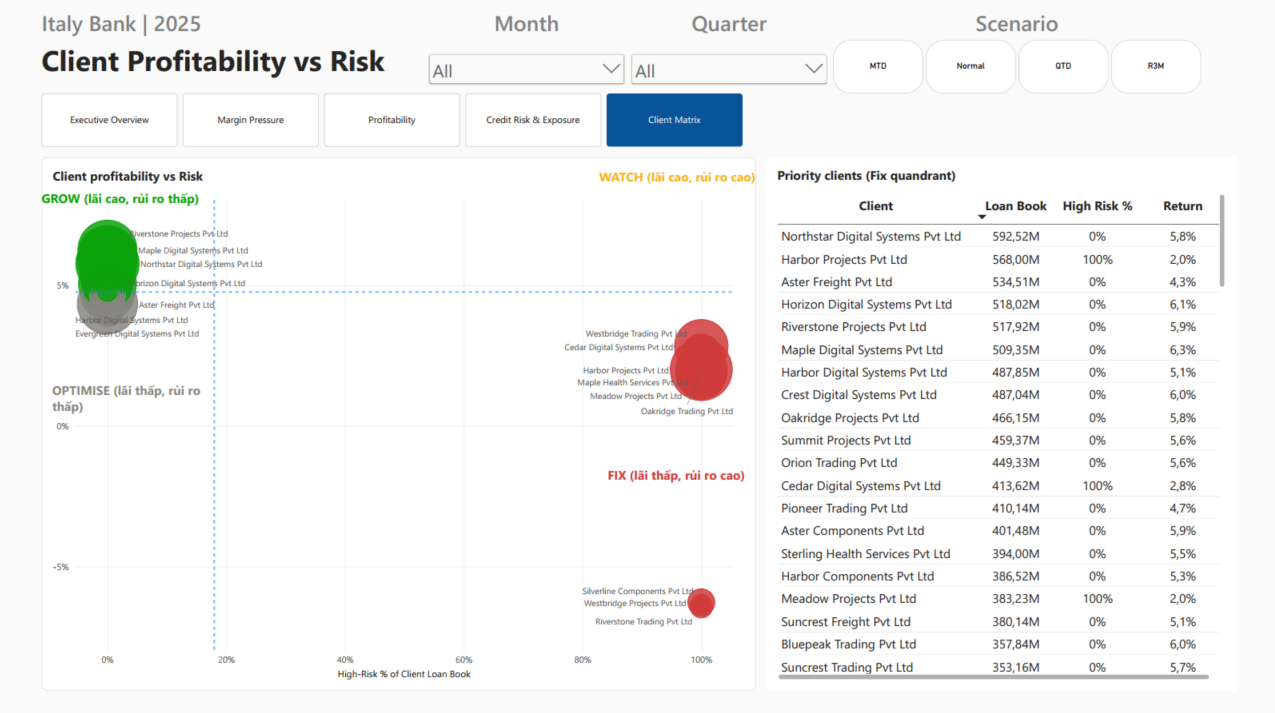

The page's visual inventory and layout, read from the dashboard file:
{"tool":"powerbi","page":{"name":"Client Matrix","canvas":[1920,1080],"ordinal":4},"visuals":[{"type":"textbox","box":[64,16,272,48],"z":0},{"type":"textbox","box":[64,64,528,64],"z":1000},{"type":"advancedSlicerVisual","fields":{"Values":["Calculation group.Time period"]},"box":[1232,64,592,80],"z":2000},{"type":"textbox","box":[1424,16,208,48],"z":3000},{"type":"shape","box":[64,240,1072,800],"z":4000},{"type":"shape","box":[1152,240,704,800],"z":5000},{"type":"slicer","fields":{"Values":["Dim_date.Quarter"]},"box":[944,80,304,64],"z":6000},{"type":"textbox","box":[992,16,208,48],"z":7000},{"type":"tableEx","title":"Priority clients (Fix quandrant)","fields":{"Values":["Dim_Client.ClientName","Measure.Loan Book","Measure.High Risk Exposure %","Measure.Risk-adj Return"]},"box":[1152,240,704,800],"z":8000},{"type":"slicer","fields":{"Values":["Dim_date.Month"]},"box":[640,80,304,64],"z":9000},{"type":"textbox","box":[688,16,208,48],"z":10000},{"type":"scatterChart","title":"Client profitability vs Risk","fields":{"X":["Measure.High Risk Exposure %"],"Size":["Measure.Loan Book"],"Series":["Dim_Client.ClientName"],"Y":["Measure.Y"]},"box":[64,240,1072,800],"z":11000},{"type":"pageNavigator","box":[64,144,1056,80],"z":12000},{"type":"textbox","box":[64,288,256,32],"z":13000},{"type":"textbox","box":[80,576,240,64],"z":13001},{"type":"textbox","box":[848,256,288,32],"z":13002},{"type":"textbox","box":[832,704,288,32],"z":13003}]}

Visuals, with their boxes in screenshot pixels (x1, y1, x2, y2), scaled from the page's 1920x1080 canvas onto the 1275x713 screenshot:
textbox: detection(42, 11, 223, 42)
textbox: detection(42, 42, 393, 85)
advancedSlicerVisual - Calculation group.Time period: detection(818, 42, 1211, 95)
textbox: detection(946, 11, 1084, 42)
shape: detection(42, 158, 754, 687)
shape: detection(765, 158, 1232, 687)
slicer - Dim_date.Quarter: detection(627, 53, 829, 95)
textbox: detection(659, 11, 797, 42)
"Priority clients (Fix quandrant)" tableEx: detection(765, 158, 1232, 687)
slicer - Dim_date.Month: detection(425, 53, 627, 95)
textbox: detection(457, 11, 595, 42)
"Client profitability vs Risk" scatterChart: detection(42, 158, 754, 687)
pageNavigator: detection(42, 95, 744, 148)
textbox: detection(42, 190, 212, 211)
textbox: detection(53, 380, 212, 423)
textbox: detection(563, 169, 754, 190)
textbox: detection(552, 465, 744, 486)
